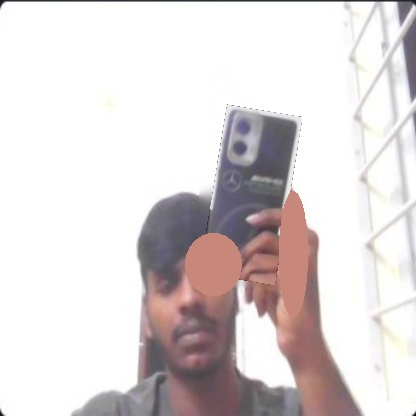cell_phone: (199, 104, 302, 285)
